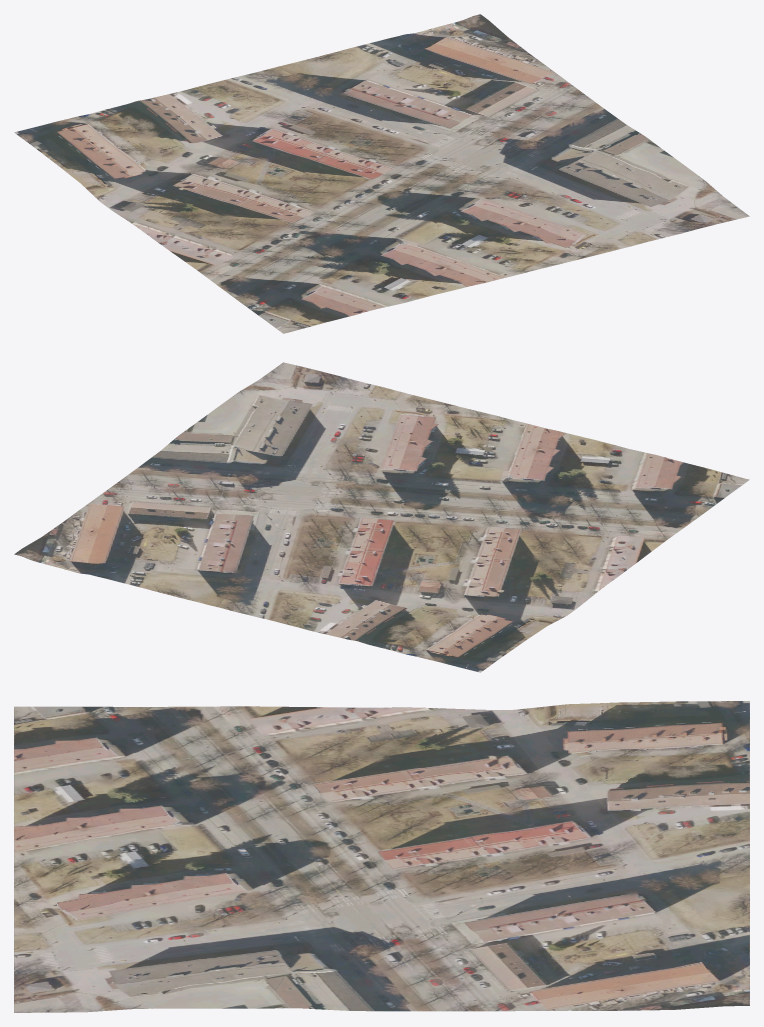
File: CM_Terrain_24489025_6821227.fbx
3 views of the same model, one above another, from view 1: azimuth 30°, elevation 25°; view 2: azimuth 150°, elevation 25°; view 3: azimuth 270°, elevation 25° (orthographic). The views are drawn at different scales.
Parts seen in each view (by area): view 1: CM_Terrain_24489025_6821227_LOD0; view 2: CM_Terrain_24489025_6821227_LOD0; view 3: CM_Terrain_24489025_6821227_LOD0.
Boxes of the visible parts, bbox=[...] form: CM_Terrain_24489025_6821227_LOD0: bbox=[14, 14, 749, 333]; CM_Terrain_24489025_6821227_LOD0: bbox=[14, 362, 749, 672]; CM_Terrain_24489025_6821227_LOD0: bbox=[14, 701, 749, 1012].
Size of what is drawn, in the model's own units: 205 by 4.62 by 205.
